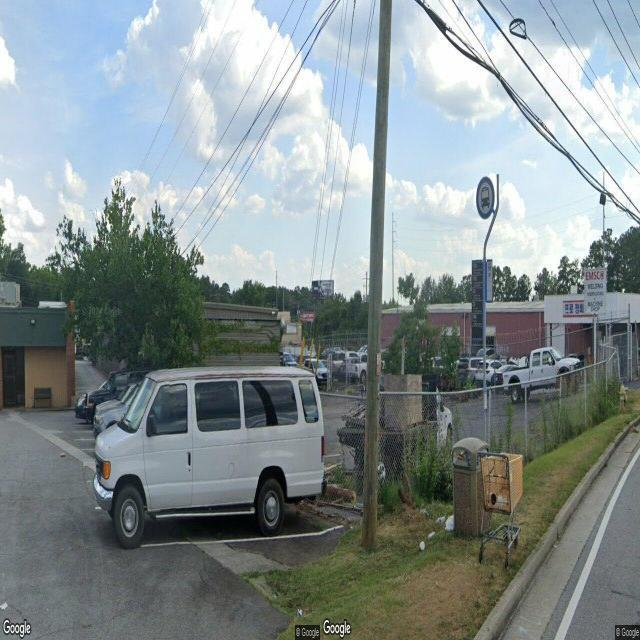trash_can: (450, 436, 490, 539)
